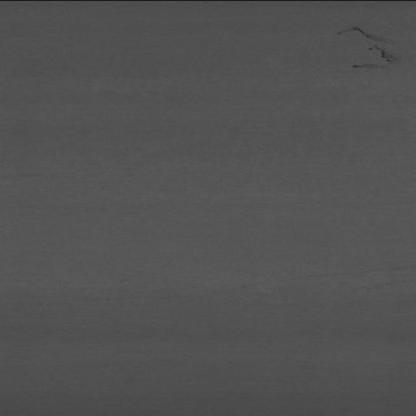water_spot: (327, 18, 412, 80)
